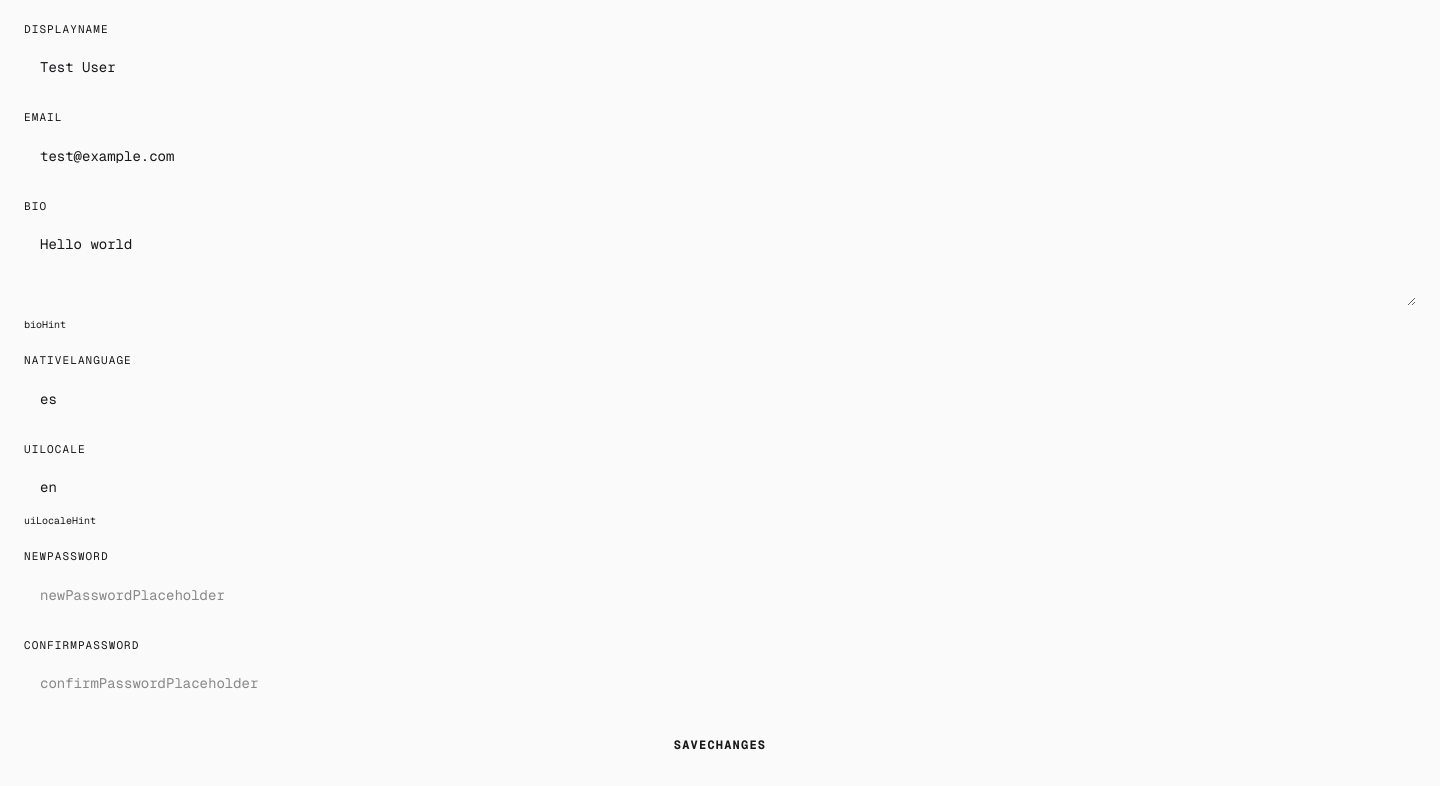
Test: ProfileSection › shows error message on network failure
The width and height of the screenshot is (1440, 786).
(page scrolled)
Click the button "saveChanges": (720, 745) [24,725,1416,765]
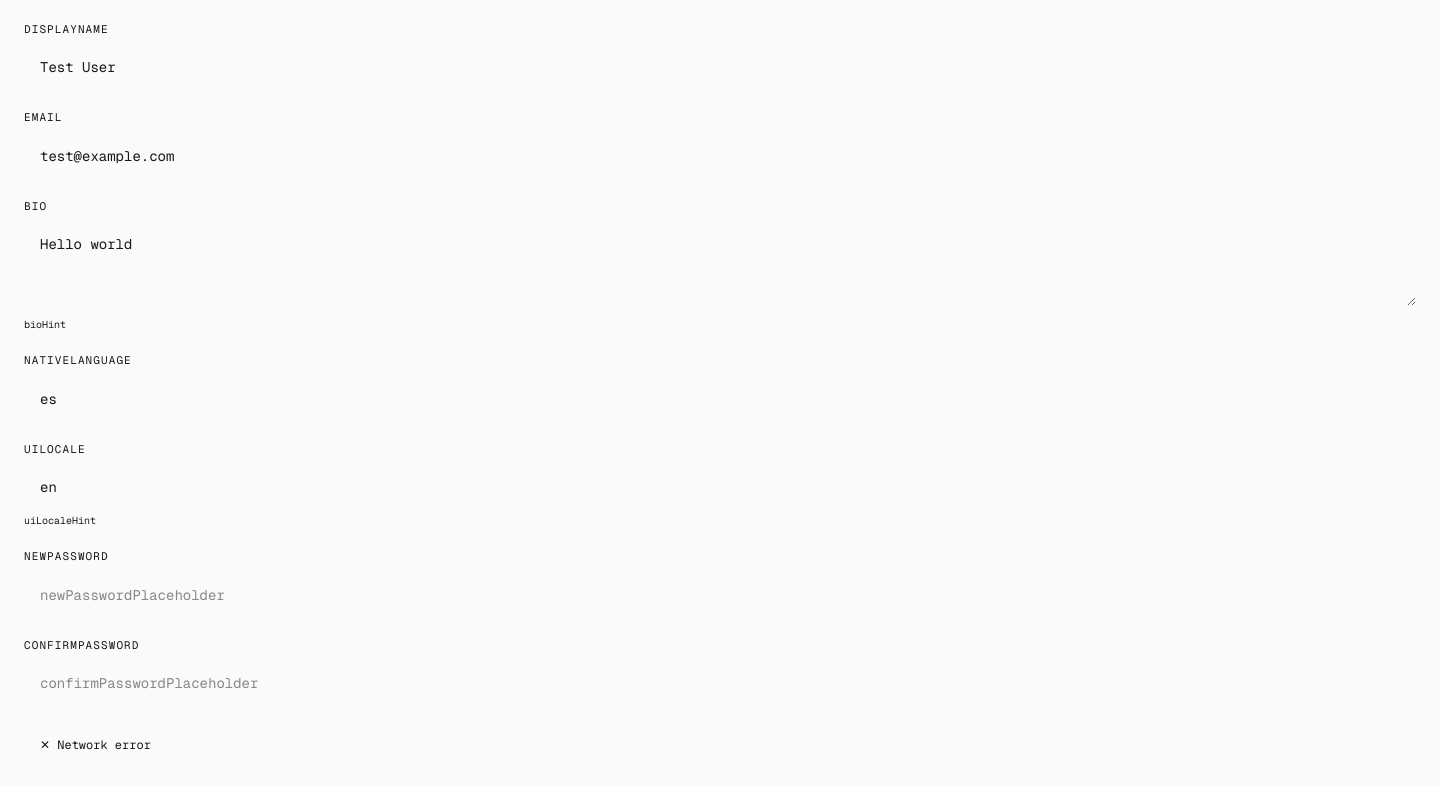
Expected: the text "✕ Network error" is shown, [40,737,151,753]
